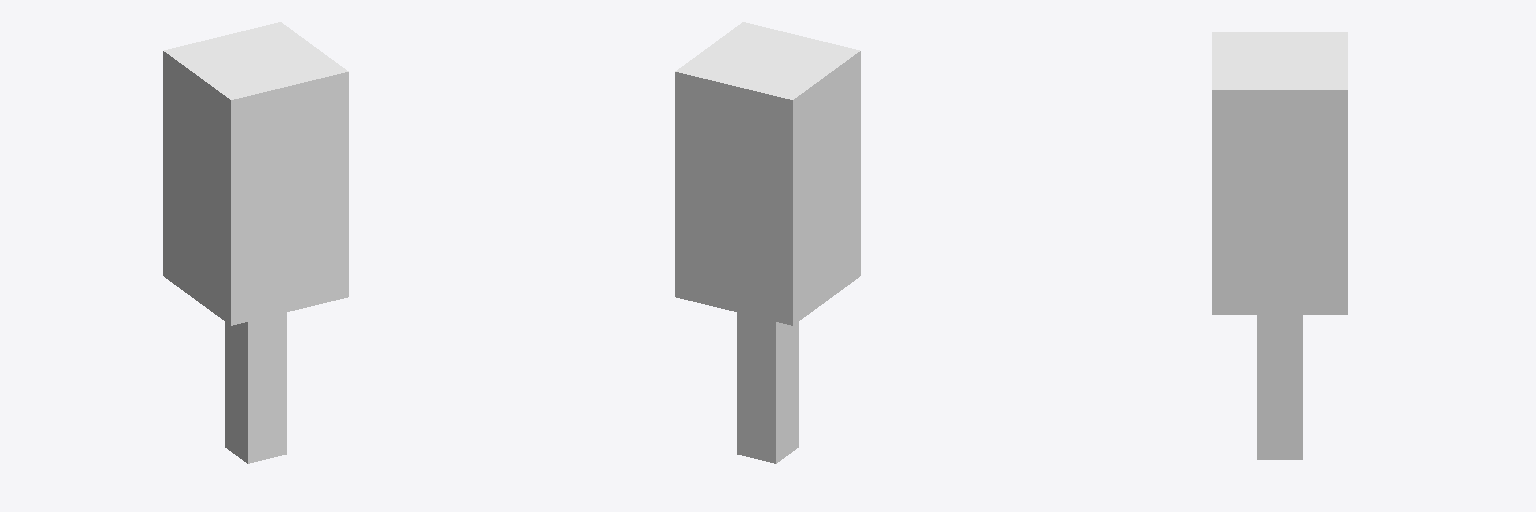
File: BigGreenTree.obj
3 views of the same model, side by side, from view 1: azimuth 30°, elevation 25°; view 2: azimuth 150°, elevation 25°; view 3: azimuth 270°, elevation 25° (orthographic).
Parts seen in each view (by area): view 1: object 1; view 2: object 1; view 3: object 1.
Boxes of the visible parts, <box> form: object 1: <box>163,22,348,463</box>; object 1: <box>675,22,860,463</box>; object 1: <box>1212,32,1347,459</box>.
Bounding box in the file's own units: 0.6 × 1.9 × 0.6.